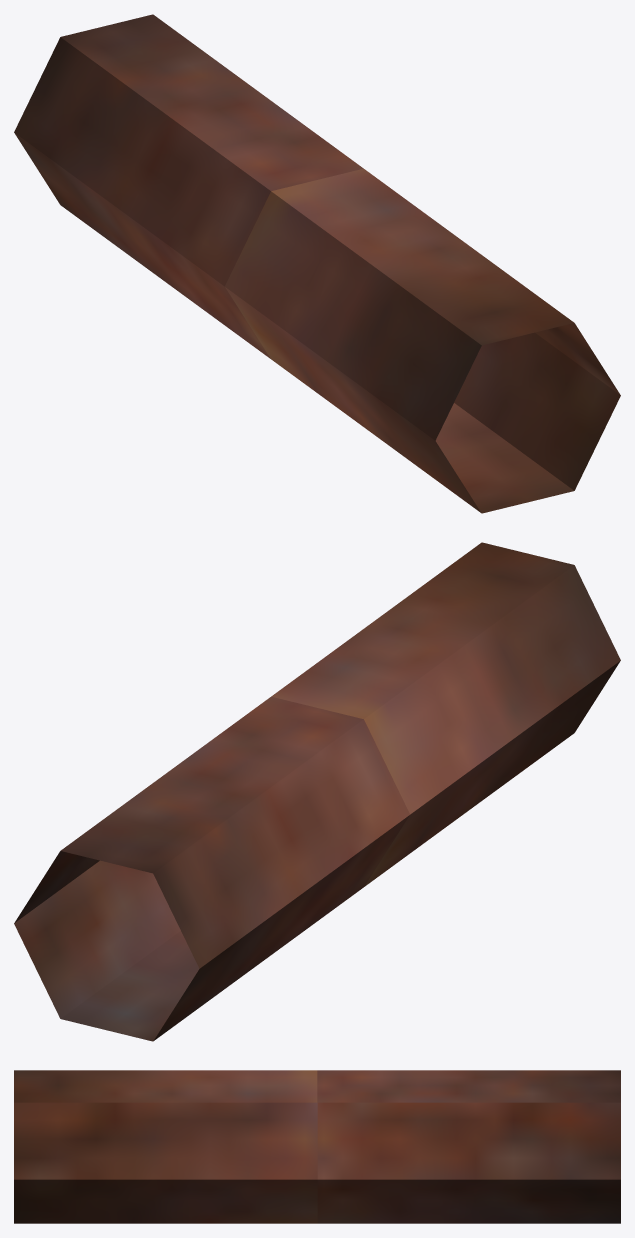
Rendered from MESH_PIPE_MEDIUM_P.fbx.
3 views of the same model, one above another, from view 1: azimuth 30°, elevation 25°; view 2: azimuth 150°, elevation 25°; view 3: azimuth 270°, elevation 25° (orthographic). The views are drawn at different scales.
Visible parts, largest first — view 1: MESH_PIPE_MEDIUM_P; view 2: MESH_PIPE_MEDIUM_P; view 3: MESH_PIPE_MEDIUM_P.
Boxes of the visible parts, x1=… form: MESH_PIPE_MEDIUM_P: x1=14, y1=14, x2=620, y2=513; MESH_PIPE_MEDIUM_P: x1=14, y1=542, x2=620, y2=1041; MESH_PIPE_MEDIUM_P: x1=14, y1=1070, x2=620, y2=1223.
Bounding box in the file's own units: 0.2541 × 0.2201 × 1.
